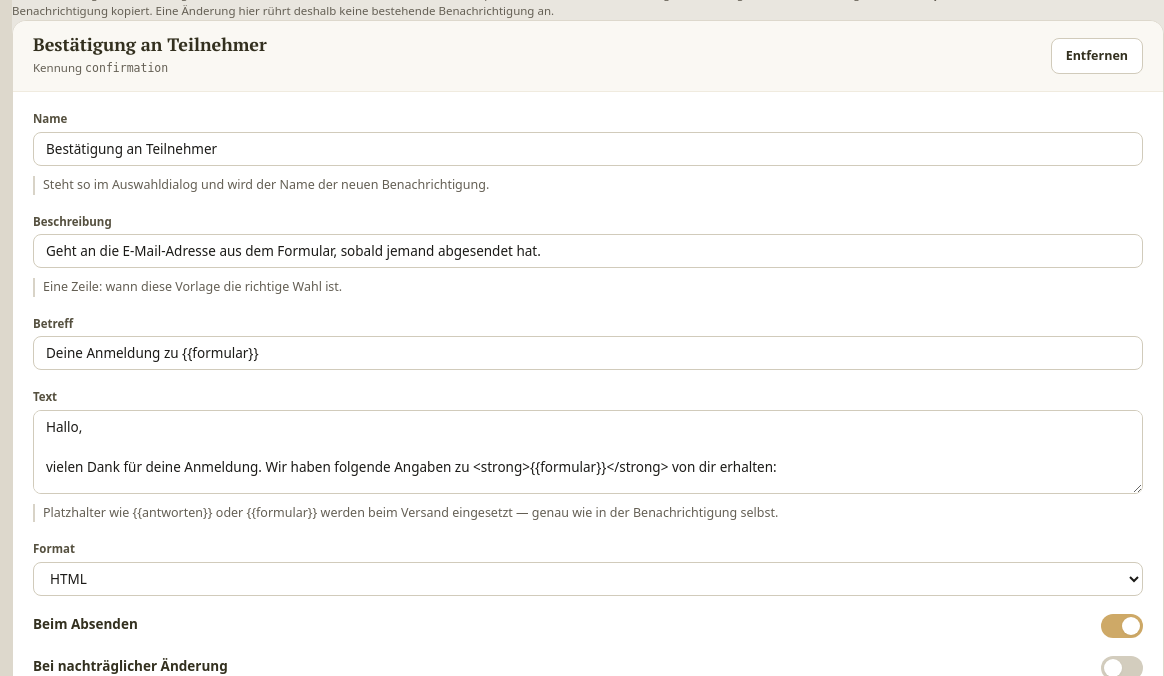
Test: TenantTemplatesTab › sagt an der Vorlage, dass ohne Auslöser nichts gespeichert wird
Click the switch labelled "Beim Absenden": [85, 624] box top-left (33, 615), bottom-right (138, 633)
(page scrolled)
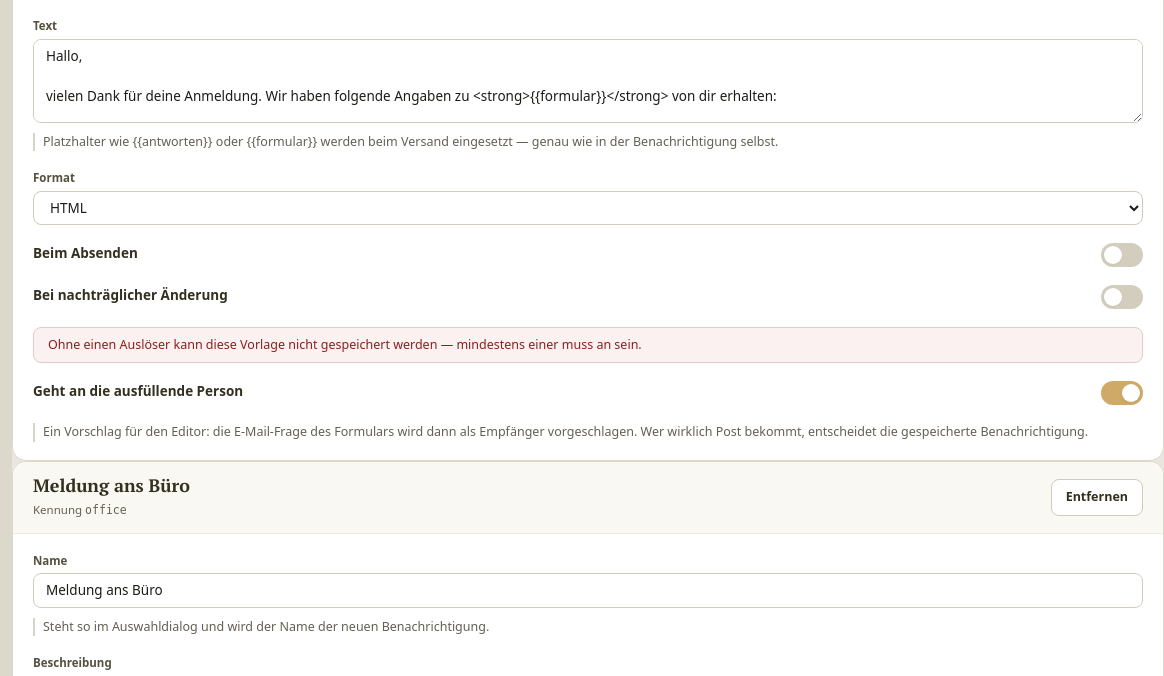
Now the text "Ohne einen Auslöser" is shown, box top-left (48, 336), bottom-right (642, 353)
